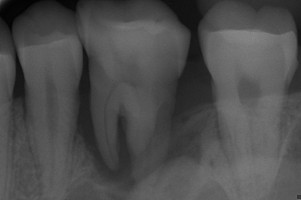Dental Caries: (76, 88, 136, 193)
